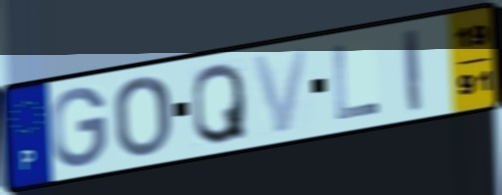G: (50, 84, 110, 171)
I: (399, 24, 425, 115)
L: (330, 42, 383, 123)
O: (111, 73, 173, 159)
Q: (191, 59, 250, 147)
V: (249, 44, 313, 138)
